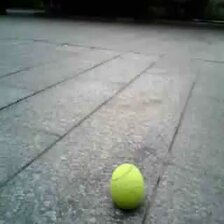tennis: (109, 164, 146, 210)
